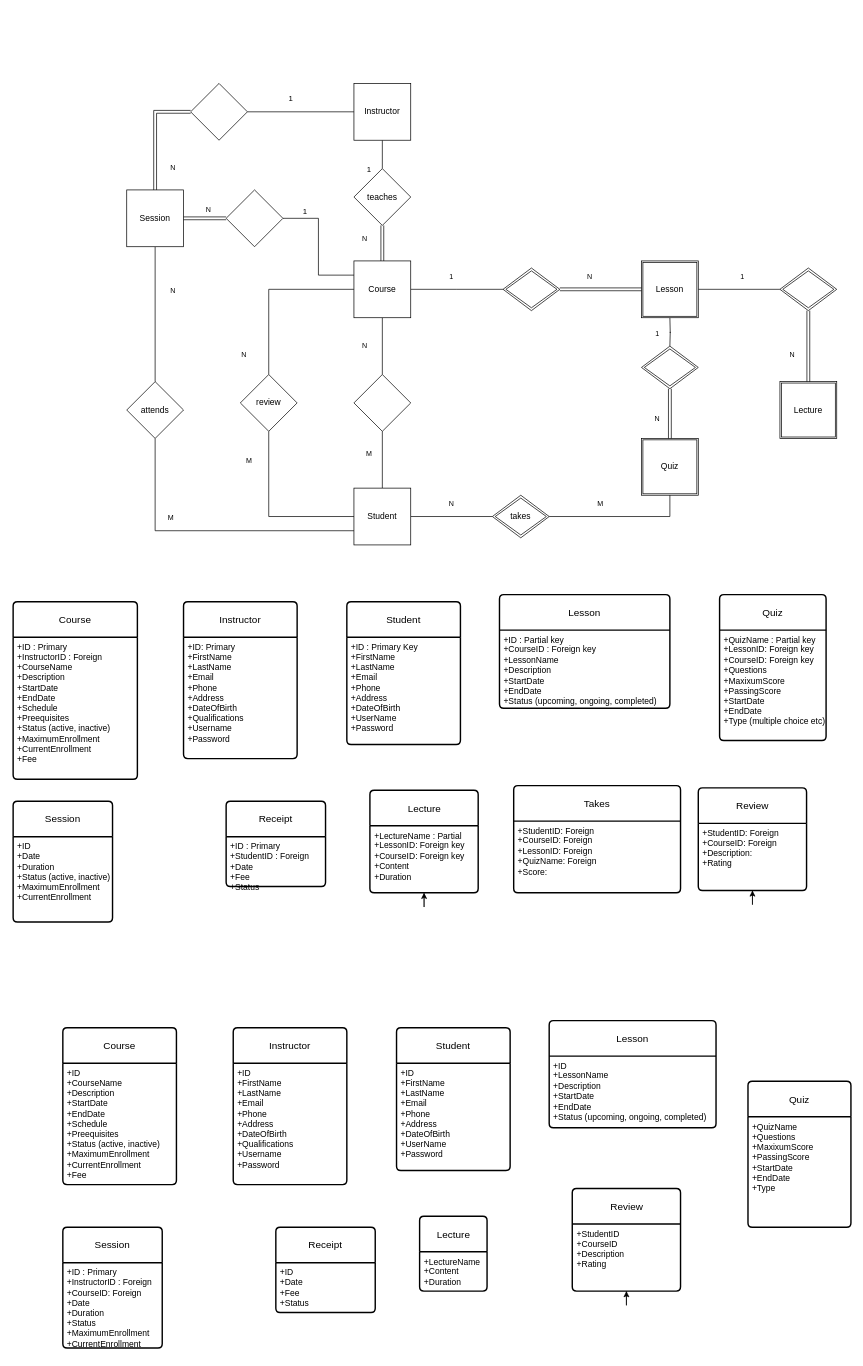
This 863x1366 diagram has some shape labels left out. The shapes that lost their labels are listed below. From the top down, each one's centre as x and y in pixels, then its label:
At (x=218, y=111): "conducts".
At (x=254, y=218): "scheduled".
At (x=531, y=289): "consists".
At (x=808, y=289): "includes".
At (x=669, y=367): "is evaluated by".
At (x=382, y=402): "enrolls".
